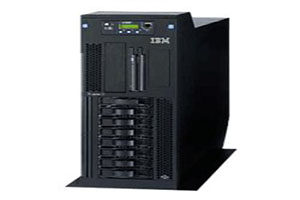ibm-server: (57, 4, 239, 194)
